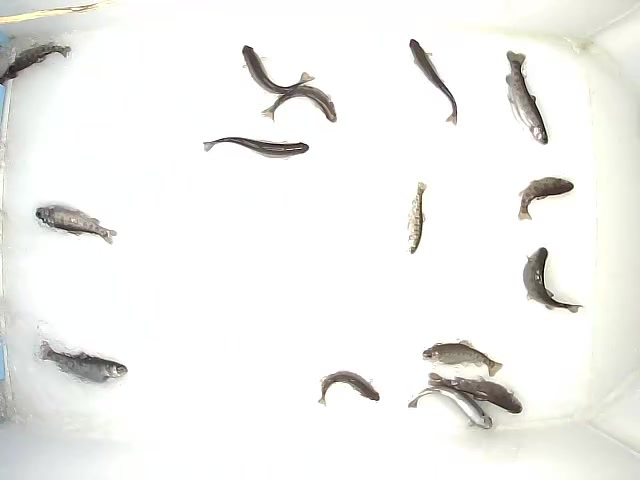fish: (33, 339, 128, 386), (408, 38, 458, 126), (504, 49, 549, 146), (520, 246, 581, 314), (427, 372, 523, 415), (406, 384, 493, 430), (240, 45, 316, 95), (35, 203, 117, 246), (421, 338, 504, 378), (1, 39, 72, 85), (260, 84, 338, 124), (517, 176, 575, 221), (316, 369, 381, 407), (202, 136, 309, 159), (405, 180, 429, 255)
